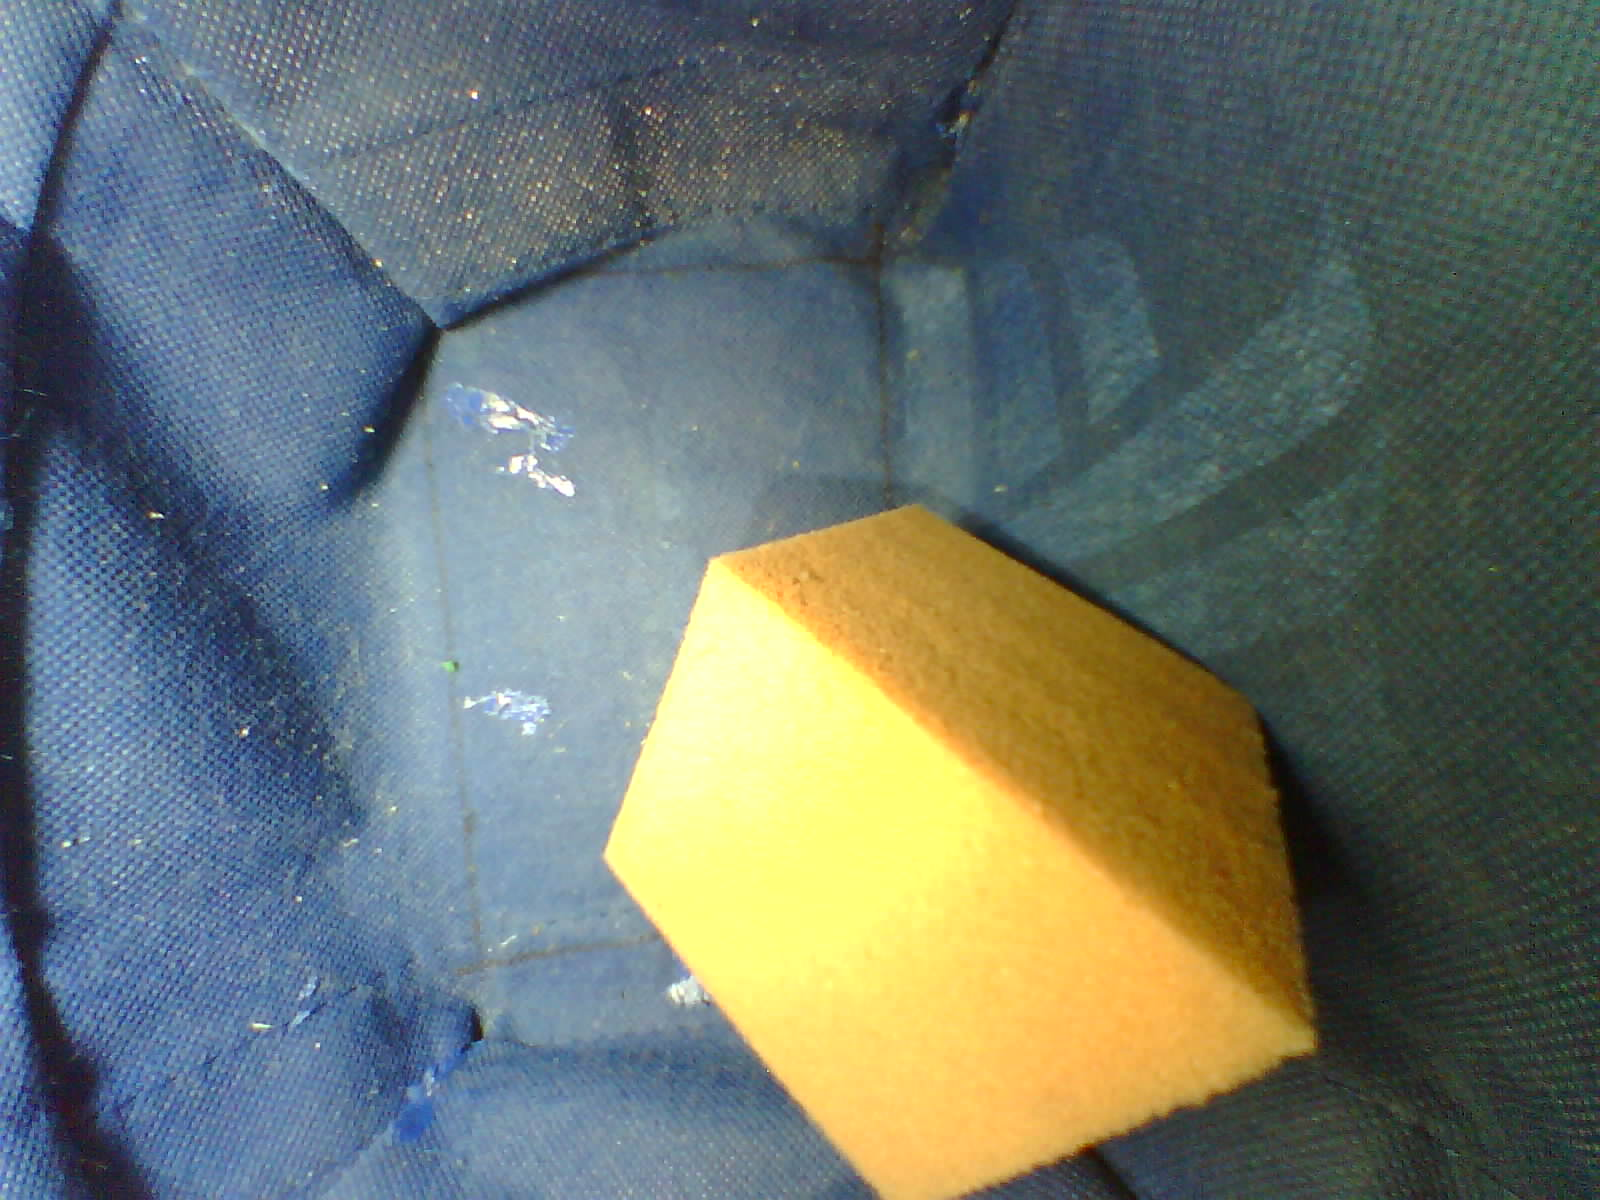cube-soft: (602, 488, 1330, 1200)
